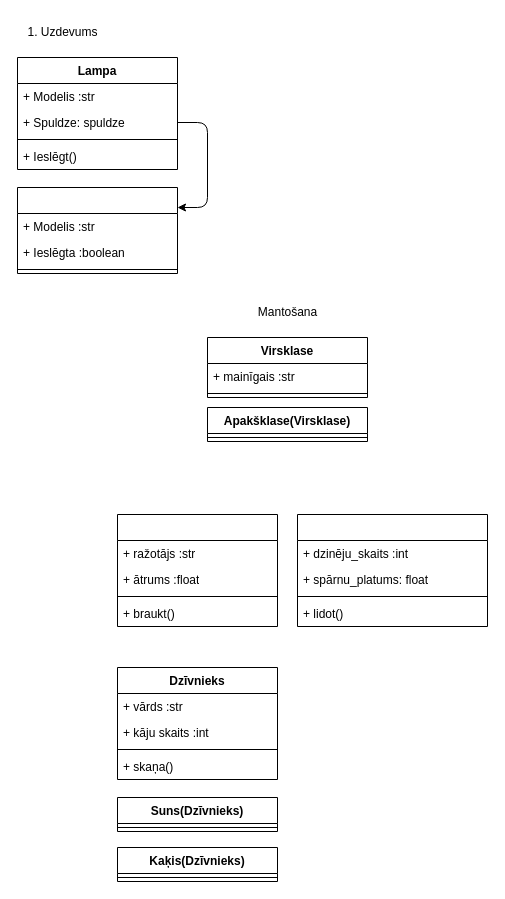
This 505x899 diagram has some shape labels left out. Here are the shapes that lost their labels. From the top down, the box of each, then its label:
(16, 186, 178, 274): Spuldze
(116, 514, 278, 626): Transportlīdzeklis
(296, 514, 488, 626): Lidmašīna(Transportlīdzeklis)
